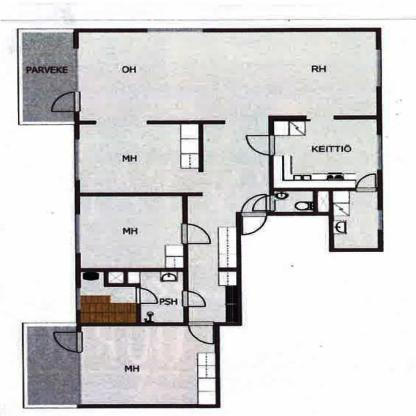door: (48, 92, 82, 114), (188, 321, 215, 346), (243, 135, 275, 156), (180, 225, 212, 245), (240, 194, 268, 213), (182, 292, 208, 309), (135, 288, 156, 304), (255, 196, 275, 210), (357, 175, 375, 189)
window: (148, 26, 202, 37), (74, 214, 81, 256), (73, 140, 80, 179), (373, 137, 382, 166), (375, 48, 381, 87), (376, 209, 382, 228), (76, 289, 80, 309)
zone: (76, 33, 376, 320), (82, 323, 213, 405), (80, 196, 181, 267), (272, 121, 374, 188), (23, 32, 74, 119), (27, 324, 81, 403), (81, 271, 138, 322), (334, 189, 377, 249), (141, 275, 185, 321), (271, 189, 328, 211)
